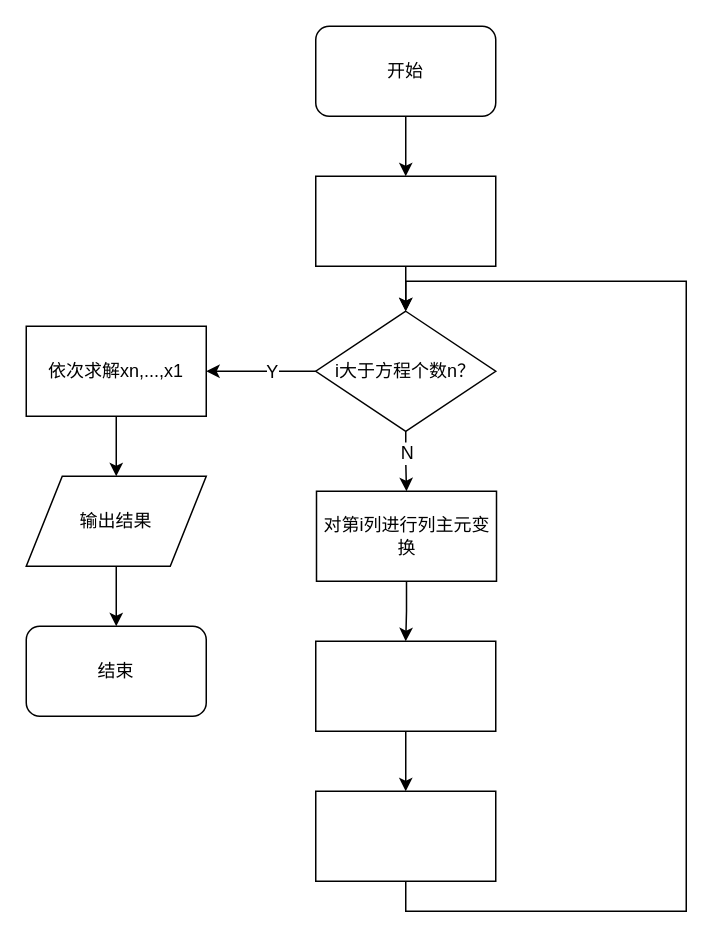
This 725x950 diagram has some shape labels left out. Here are the shapes that lost their labels. From the top down, the box of each, then its label:
(314, 175, 496, 266): i = 1
(314, 640, 496, 731): 将第i列 主元下方消成0
(314, 790, 496, 881): i = i + 1
